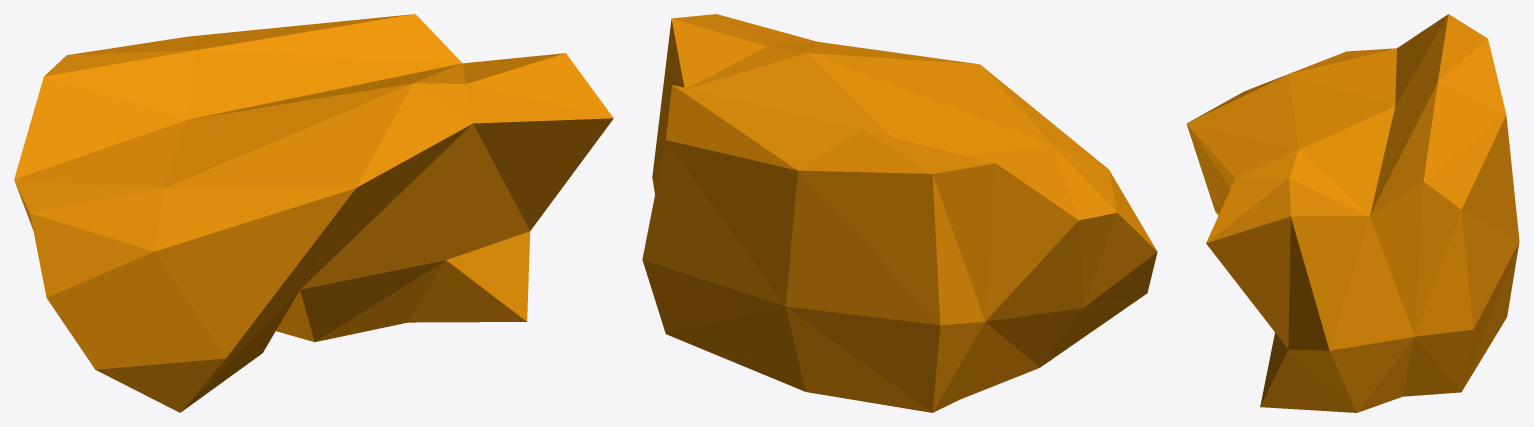
The model's file is _gold_1.fbx.
3 renders of one model, left to right at view 1: azimuth 30°, elevation 25°; view 2: azimuth 150°, elevation 25°; view 3: azimuth 270°, elevation 25°, orthographic. The views are drawn at different scales.
Visible parts, largest first — view 1: gold_1; view 2: gold_1; view 3: gold_1.
Boxes of the visible parts, x1,y1,x2,y2 form: gold_1: (14, 14, 613, 412); gold_1: (642, 14, 1157, 412); gold_1: (1186, 14, 1519, 412).
Size of the model in its own units: 19.8 by 9.48 by 12.44.
